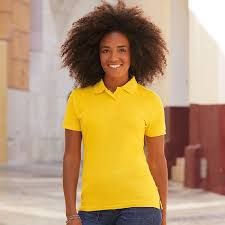C_polo shirt: (57, 75, 174, 217)
